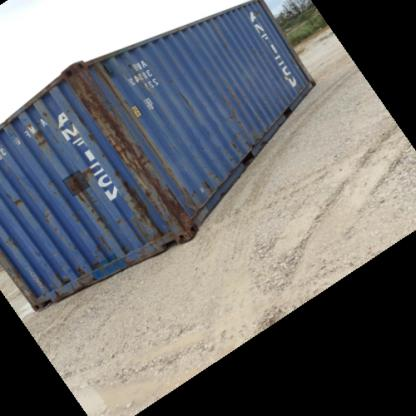Damage: (110, 151, 197, 243), (62, 66, 154, 151), (63, 162, 110, 238), (56, 256, 102, 293), (222, 104, 249, 160), (26, 242, 50, 297), (25, 106, 53, 147), (174, 84, 196, 113), (199, 171, 227, 193), (38, 203, 56, 237), (4, 188, 28, 212)
